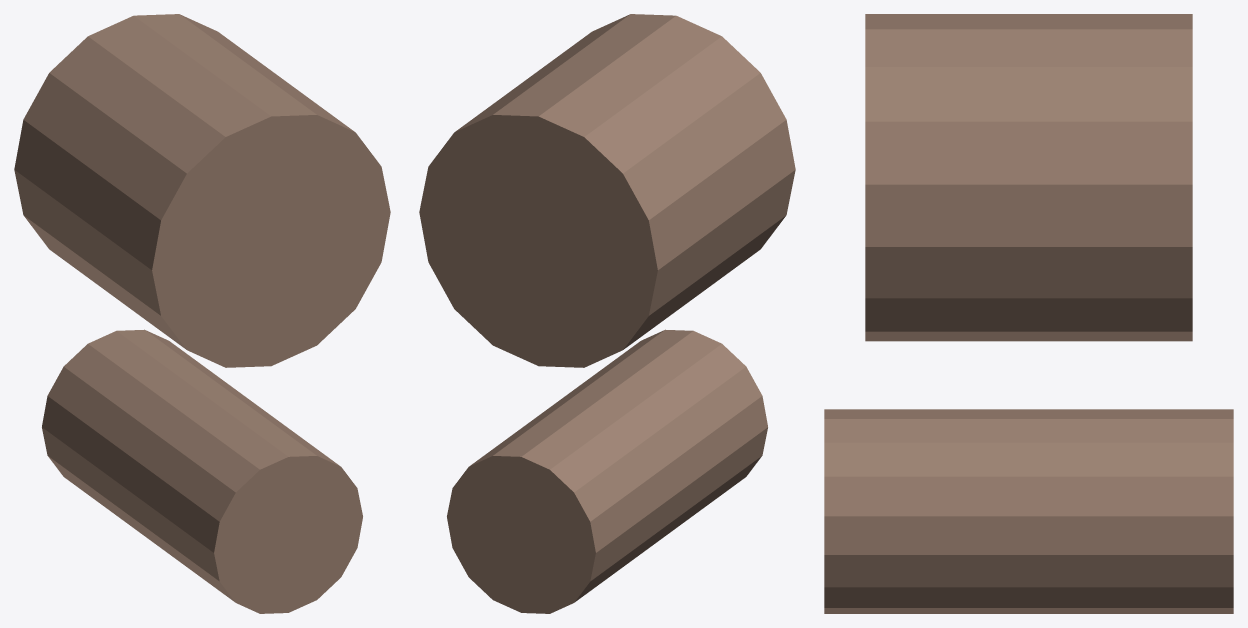
Rendered from vase.glb.
The picture shows the model from 3 angles, left to right: view 1: azimuth 30°, elevation 25°; view 2: azimuth 150°, elevation 25°; view 3: azimuth 270°, elevation 25°; orthographic projection. The views are drawn at different scales.
Visible parts, largest first — view 1: geometry_0; view 2: geometry_0; view 3: geometry_0.
Boxes of the visible parts, box(x1,y1,x2,y2) form: geometry_0: box(14, 14, 390, 613); geometry_0: box(419, 14, 795, 613); geometry_0: box(824, 14, 1233, 613).
Size of the model in its own units: 0.8 by 1.55 by 1.
